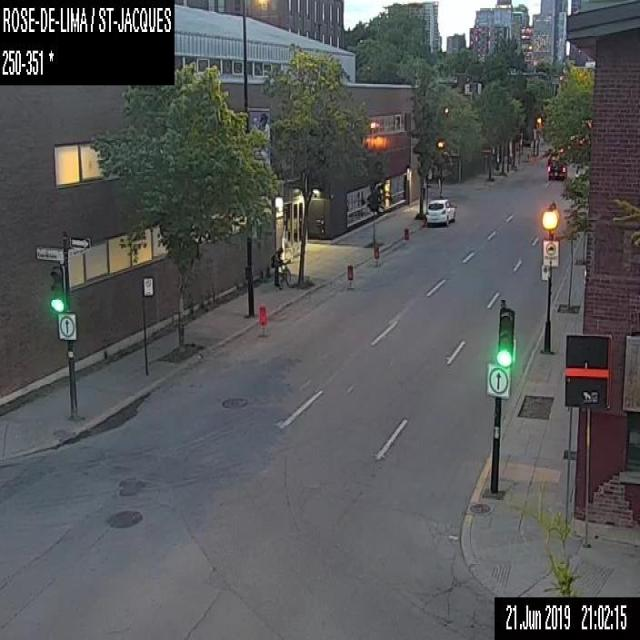construction: (258, 305, 266, 335), (345, 264, 353, 290), (371, 242, 378, 264), (401, 227, 408, 246)
pedestrian: (270, 246, 291, 290)
vehicle: (424, 195, 456, 225), (546, 149, 568, 180)
